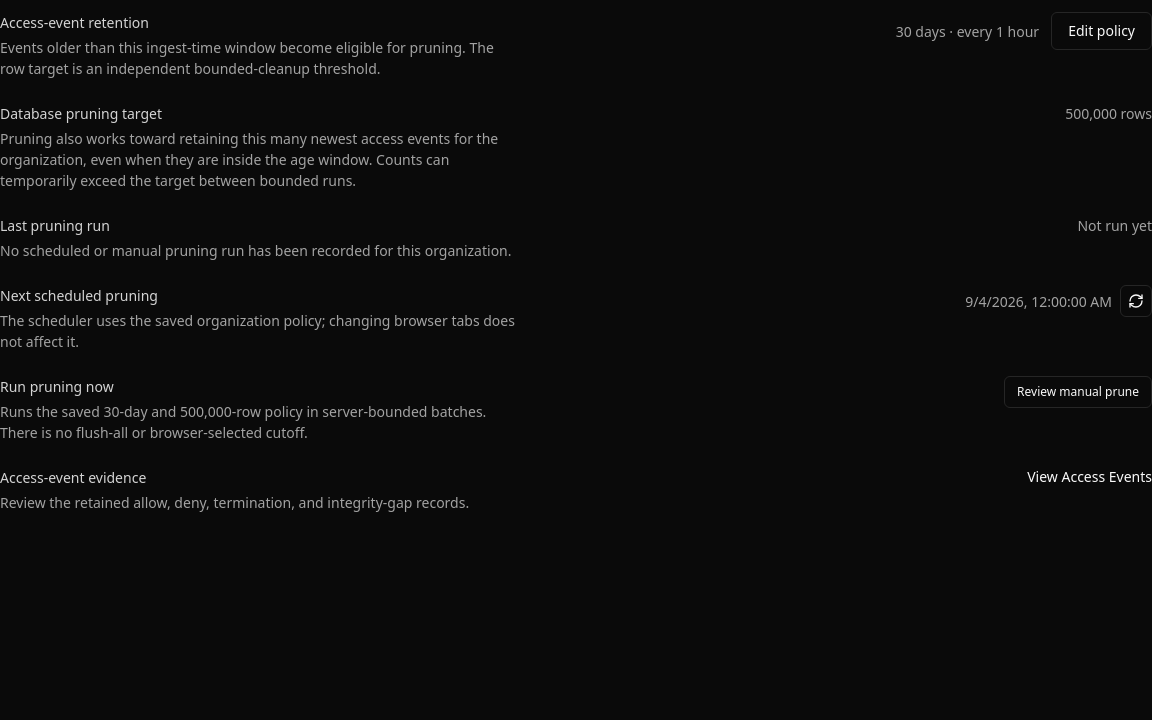
Test: access-event retention settings › keeps the same request key across dismissal after a resolved API error
This screenshot has width=1152, height=720.
Expected: the text "30 days · every 1 hour" is shown, [896,20,1039,42]
Click the button "Review manual prune" at (1078, 392), box [1004,376,1151,408]
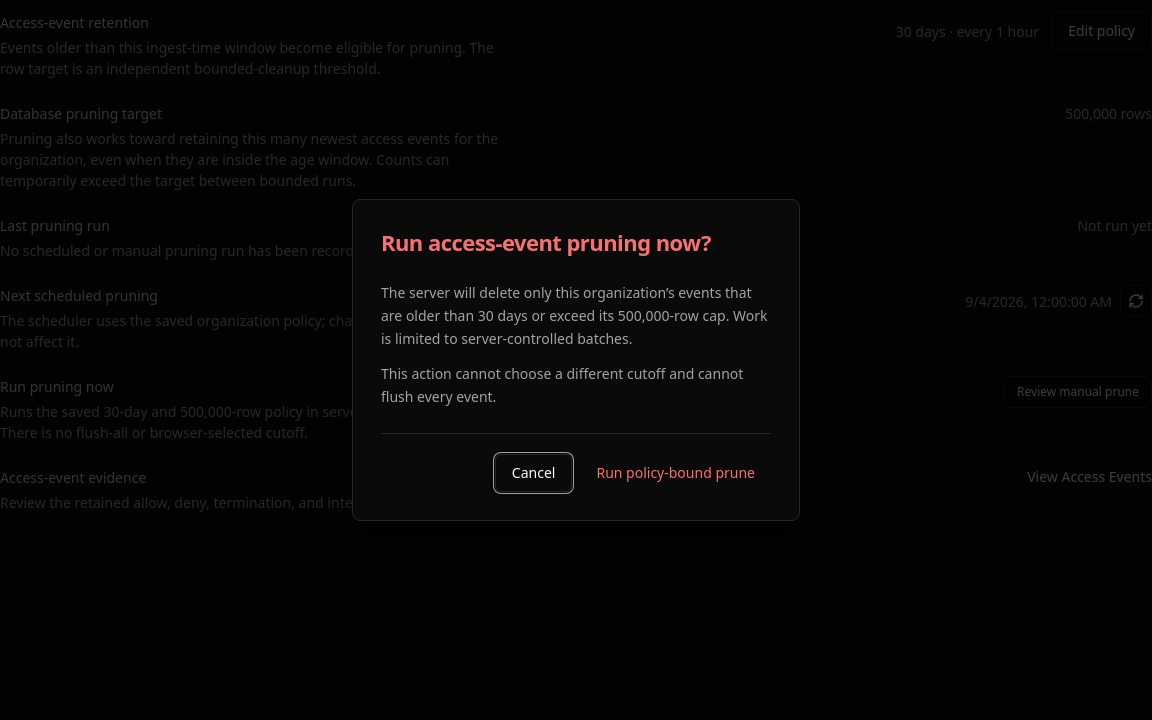
Expected: the dialog "Run access-event pruning now?" is shown, [352,200,800,521]
Expected: the text "older than 30 days or exceed its 500,000-row cap" is shown, [381,281,771,350]
Click the button "Run policy-bound prune" at (676, 472), box [580,454,771,492]
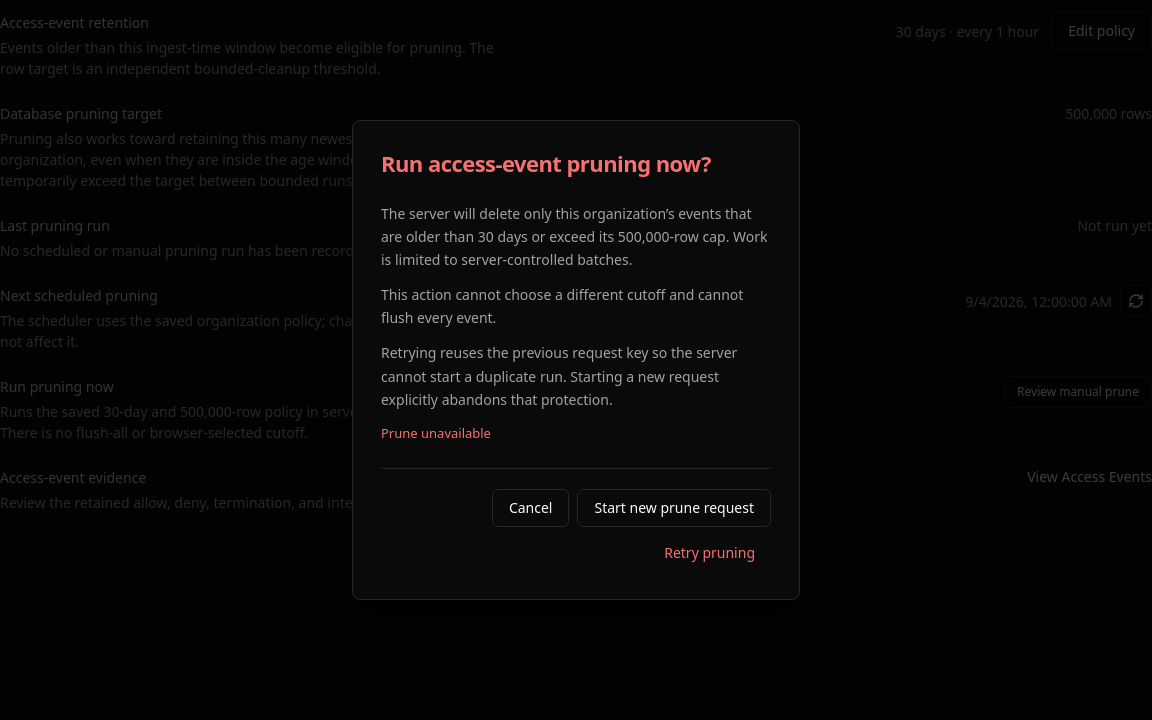
Expected: the text "Prune unavailable" is shown, [381,424,491,442]
Click the button "Cancel" at (531, 508), box [492,489,570,527]
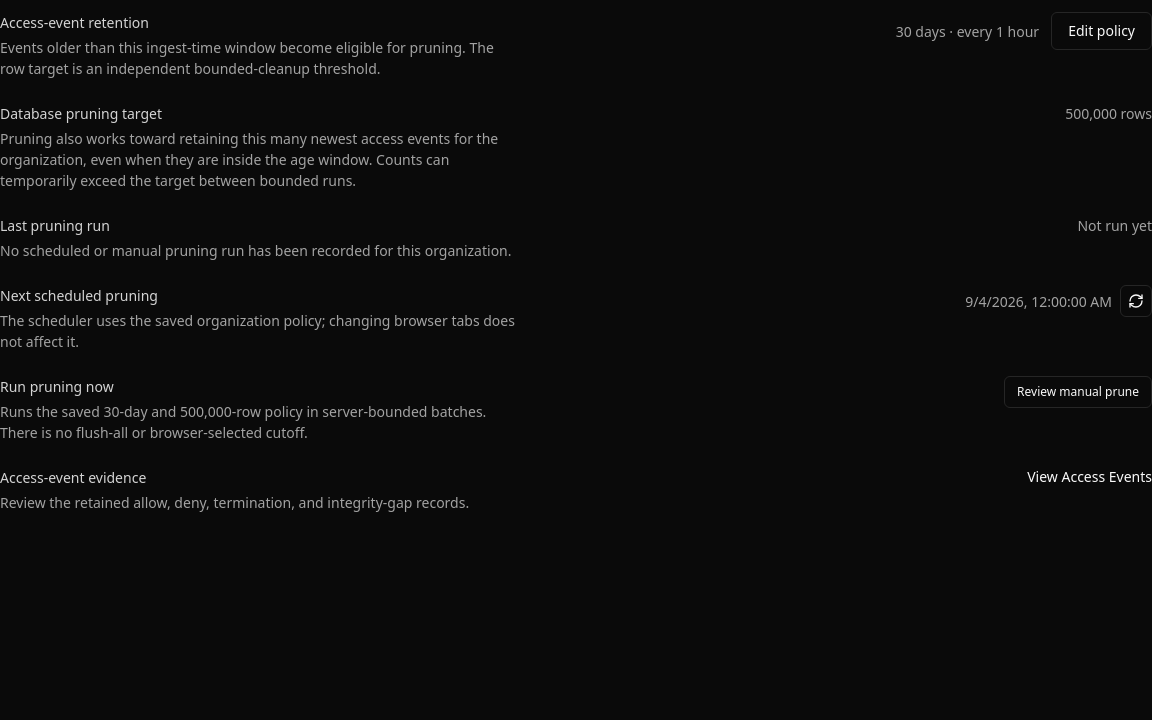
Expected: the dialog is gone
Click the button "Review manual prune" at (1078, 392), box [1004,376,1151,408]
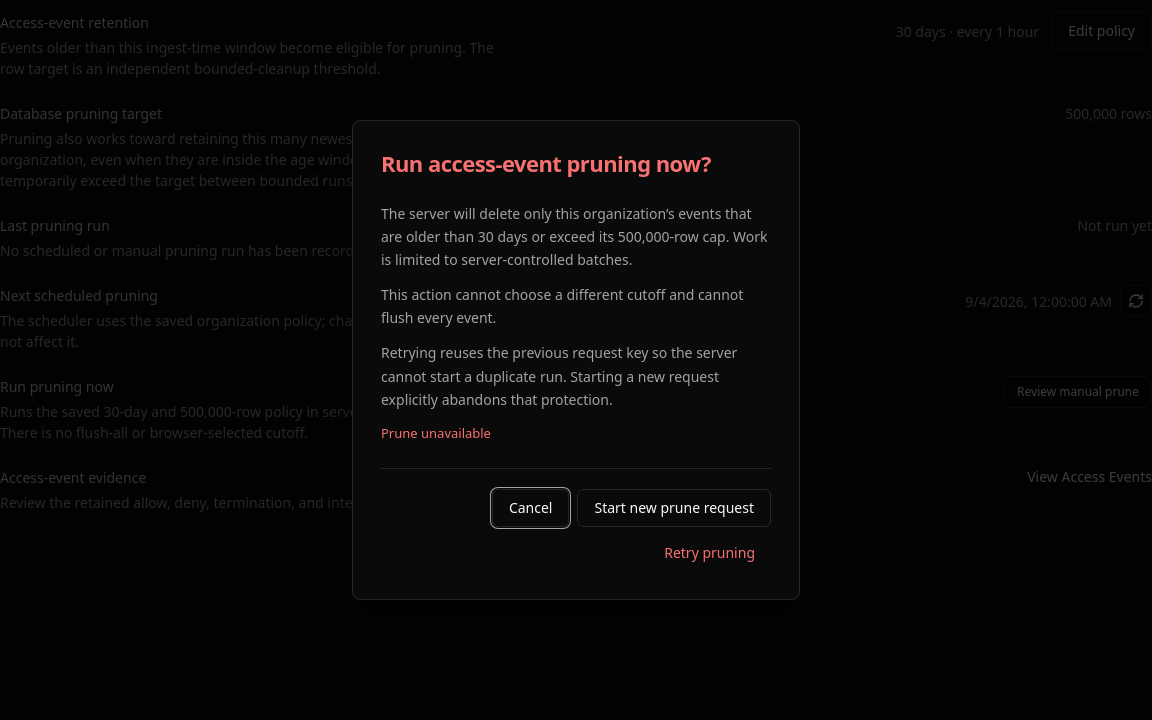
Expected: the text "Retrying reuses the previous request key" is shown, [381,344,737,409]
Click the button "Retry pruning" at (710, 553), box [648,535,771,571]
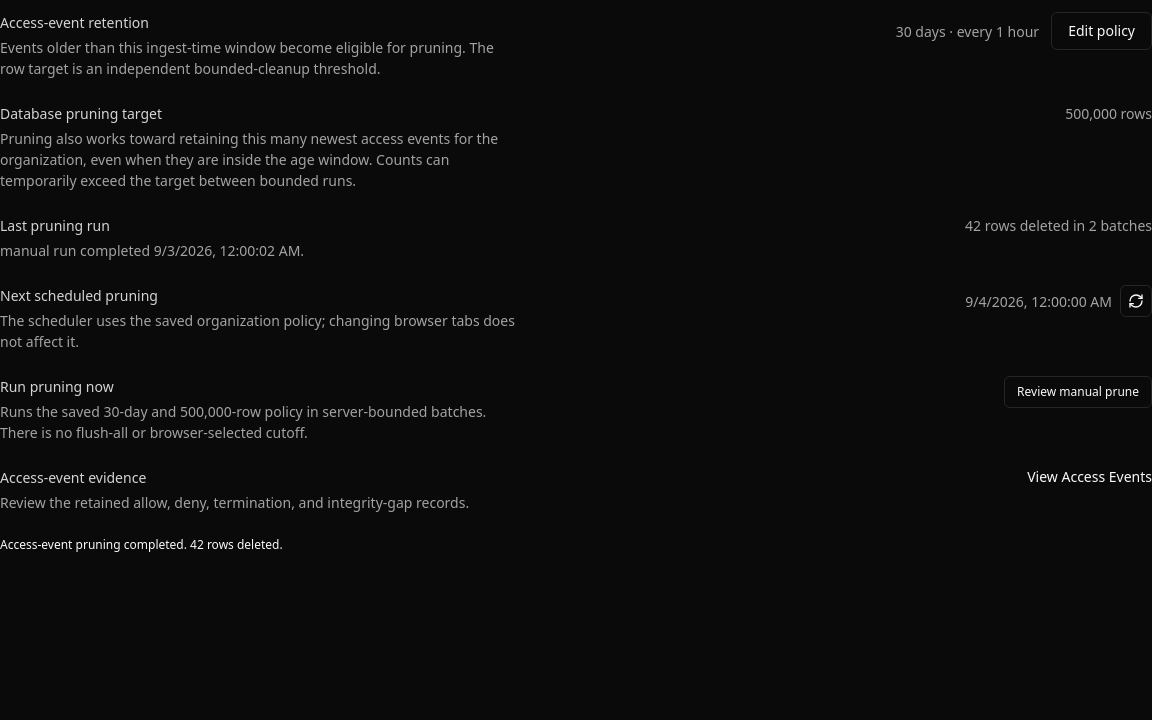
Expected: the text "42 rows deleted in 2 batches" is shown, [965,215,1151,236]
